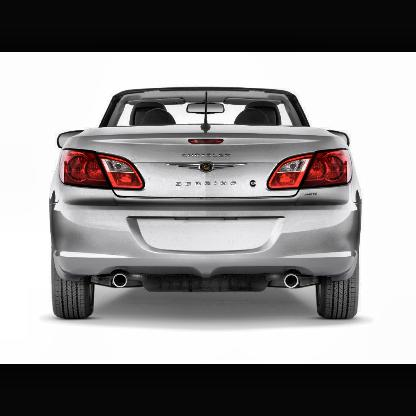Chrysler Sebring Convertible 2010: (50, 87, 362, 320)
